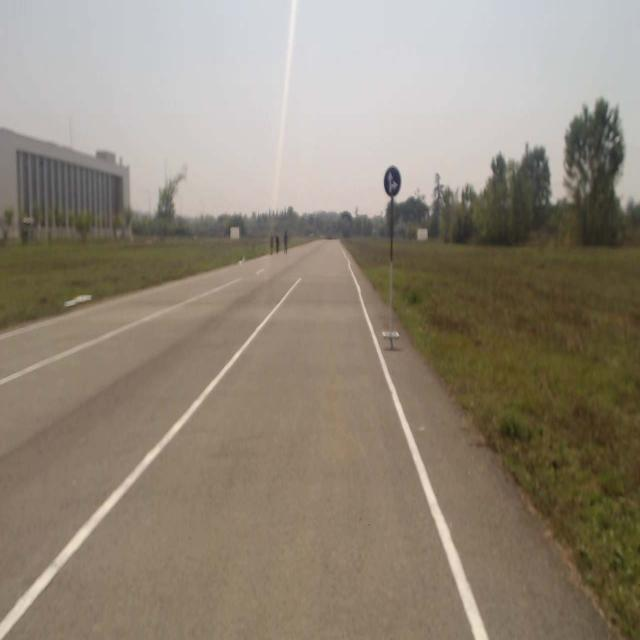ilerisag: (385, 166, 399, 194)
